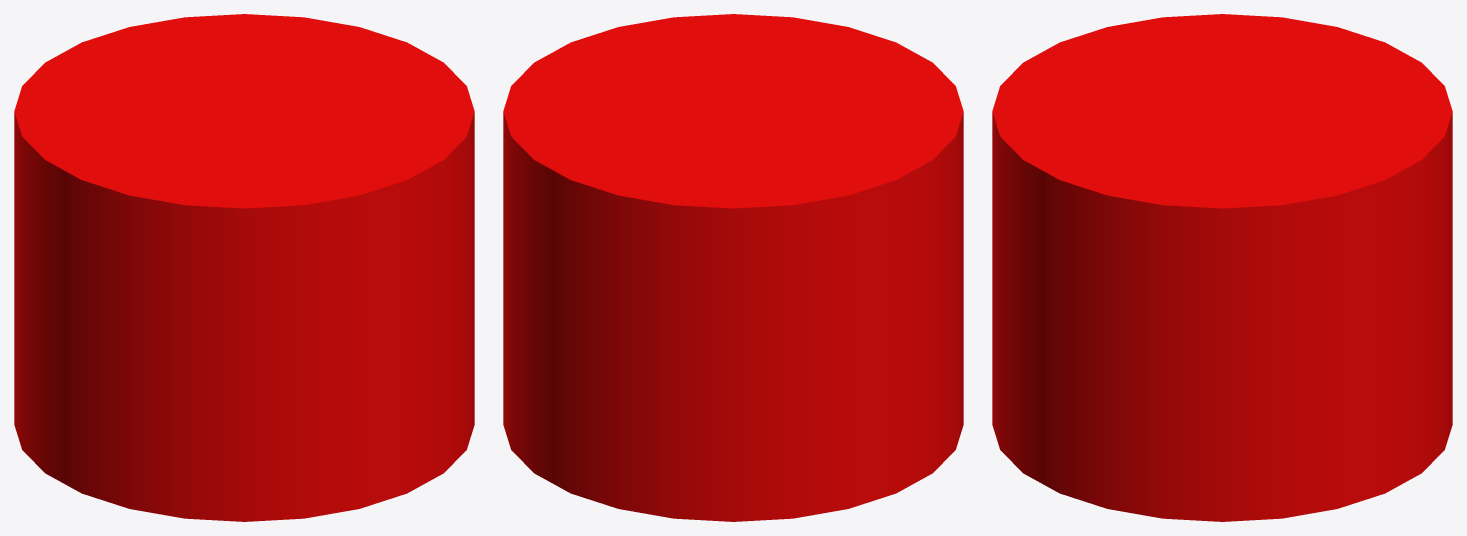
Rendered from RedCylinder.dae.
3 renders of one model, left to right at view 1: azimuth 30°, elevation 25°; view 2: azimuth 150°, elevation 25°; view 3: azimuth 270°, elevation 25°, orthographic.
Parts seen in each view (by area): view 1: SketchUp; view 2: SketchUp; view 3: SketchUp.
Boxes of the visible parts, box(x1,y1,x2,y2) form: SketchUp: box(14, 14, 474, 521); SketchUp: box(503, 14, 963, 521); SketchUp: box(992, 14, 1452, 521).
Bounding box in the file's own units: 25.62 × 25.62 × 19.25.
